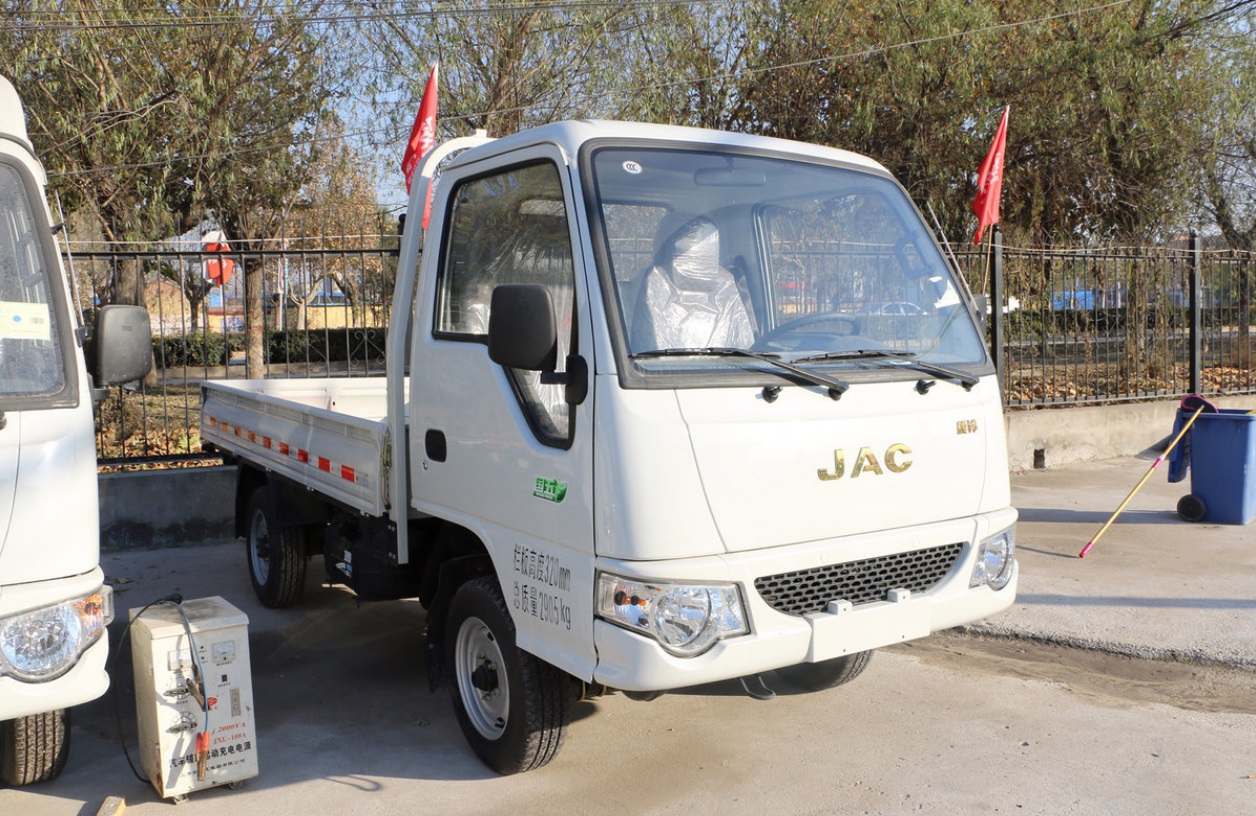truck: (199, 112, 1032, 790)
